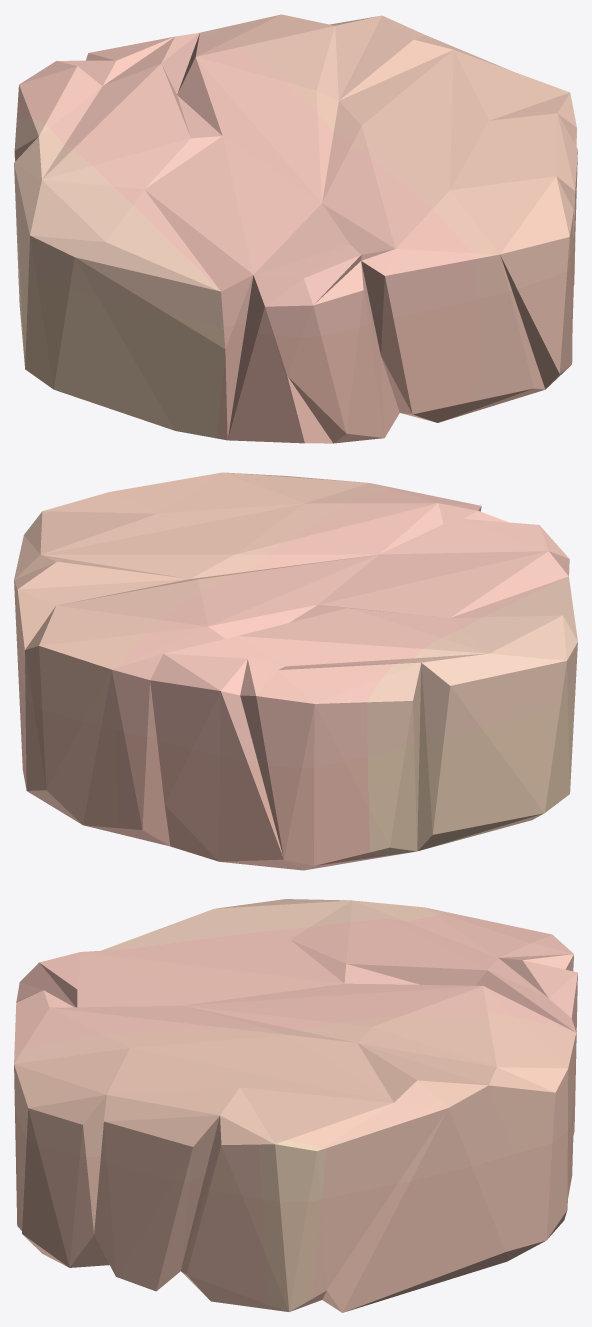
Rendered from DC_PillarHexagram1.fbx.
3 views of the same model, one above another, from view 1: azimuth 30°, elevation 25°; view 2: azimuth 150°, elevation 25°; view 3: azimuth 270°, elevation 25° (orthographic).
Parts seen in each view (by area): view 1: PillarHexagram1; view 2: PillarHexagram1; view 3: PillarHexagram1.
Part boxes in pixels (x1,y1,x2,y2): PillarHexagram1: (14,14,577,443); PillarHexagram1: (14,472,577,870); PillarHexagram1: (14,899,577,1312).
Bounding box in the file's own units: 2.15 × 0.7906 × 1.95.
1 material, 1 textured.
